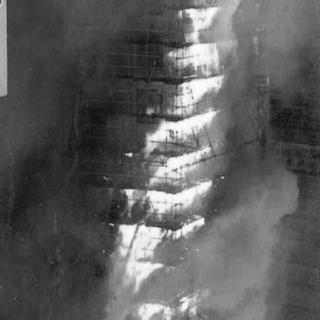Fire: (116, 8, 237, 320)
